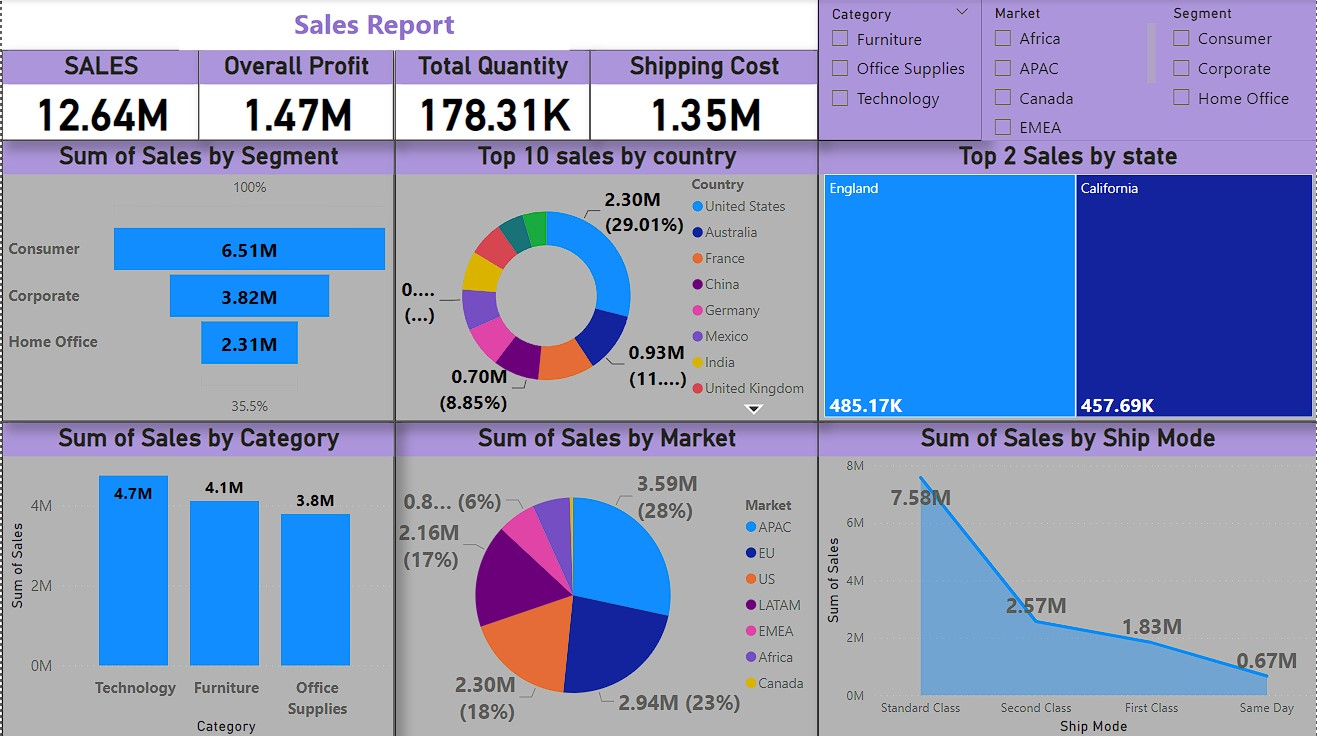

The page's visual inventory and layout, read from the dashboard file:
{"tool":"powerbi","page":{"name":"Page 1","canvas":[1280,720],"ordinal":0},"visuals":[{"type":"pieChart","fields":{"Category":["Orders.Market"],"Y":["Sum(Orders.Sales)"]},"box":[382,412,412,308],"z":0},{"type":"columnChart","fields":{"Category":["Orders.Category"],"Y":["Sum(Orders.Sales)"]},"box":[0,412,382,308],"z":1000},{"type":"areaChart","fields":{"Category":["Orders.Ship Mode"],"Y":["Sum(Orders.Sales)"]},"box":[794,412,486,308],"z":2000},{"type":"funnel","fields":{"Category":["Orders.Segment"],"Y":["Sum(Orders.Sales)"]},"box":[0,138,382,274],"z":3000},{"type":"donutChart","title":"Top 10 sales by country","fields":{"Category":["Orders.Country"],"Y":["Sum(Orders.Sales)"]},"box":[382,138,412,274],"z":4000},{"type":"treemap","title":"Top 2 Sales by state","fields":{"Group":["Orders.State"],"Values":["Sum(Orders.Sales)"]},"box":[794,138,486,274],"z":5000},{"type":"card","title":"SALES","fields":{"Values":["Sum(Orders.Sales)"]},"box":[0,50,192,88],"z":6000},{"type":"card","title":"Overall Profit","fields":{"Values":["Sum(Orders.Profit)"]},"box":[192,50,190,88],"z":7000},{"type":"card","title":"Total Quantity","fields":{"Values":["Sum(Orders.Quantity)"]},"box":[382,50,190,88],"z":8000},{"type":"card","title":"Shipping Cost","fields":{"Values":["Sum(Orders.Shipping Cost)"]},"box":[572,50,222,88],"z":9000},{"type":"slicer","fields":{"Values":["Orders.Category"]},"box":[794,0,160,138],"z":10000},{"type":"slicer","fields":{"Values":["Orders.Market"]},"box":[954,0,174,138],"z":11000},{"type":"slicer","fields":{"Values":["Orders.Segment"]},"box":[1128,0,152,138],"z":12000},{"type":"textbox","box":[172,0,380,50],"z":13000}]}

Visuals, with their boxes in screenshot pixels (x1, y1, x2, y2), scaled from the page's 1280x720 canvas onto the 1317x736 screenshot:
pieChart - Orders.Market x Sum(Orders.Sales): l=393, t=421, r=817, b=735
columnChart - Orders.Category x Sum(Orders.Sales): l=0, t=421, r=393, b=735
areaChart - Orders.Ship Mode x Sum(Orders.Sales): l=817, t=421, r=1316, b=735
funnel - Orders.Segment x Sum(Orders.Sales): l=0, t=141, r=393, b=421
"Top 10 sales by country" donutChart: l=393, t=141, r=817, b=421
"Top 2 Sales by state" treemap: l=817, t=141, r=1316, b=421
"SALES" card: l=0, t=51, r=198, b=141
"Overall Profit" card: l=198, t=51, r=393, b=141
"Total Quantity" card: l=393, t=51, r=589, b=141
"Shipping Cost" card: l=589, t=51, r=817, b=141
slicer - Orders.Category: l=817, t=0, r=982, b=141
slicer - Orders.Market: l=982, t=0, r=1161, b=141
slicer - Orders.Segment: l=1161, t=0, r=1316, b=141
textbox: l=177, t=0, r=568, b=51
